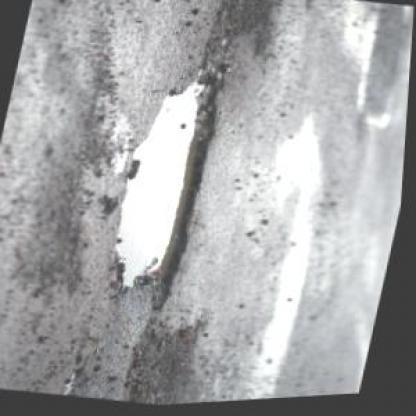pothole: (101, 62, 233, 308)
